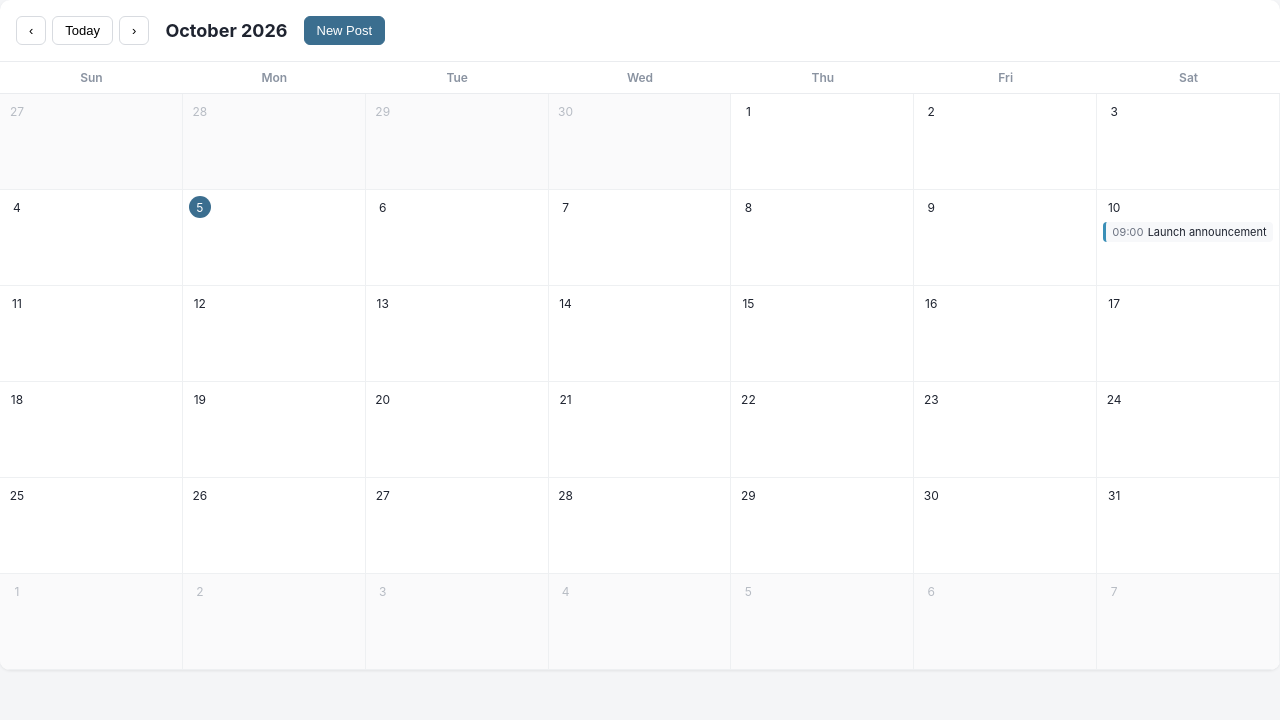
Test: Calendar › deleting a post removes it from the calendar
Click the element with test id "post-event-post-1" at {"x": 1188, "y": 232}, box x1=1103 y1=222 x2=1273 y2=242
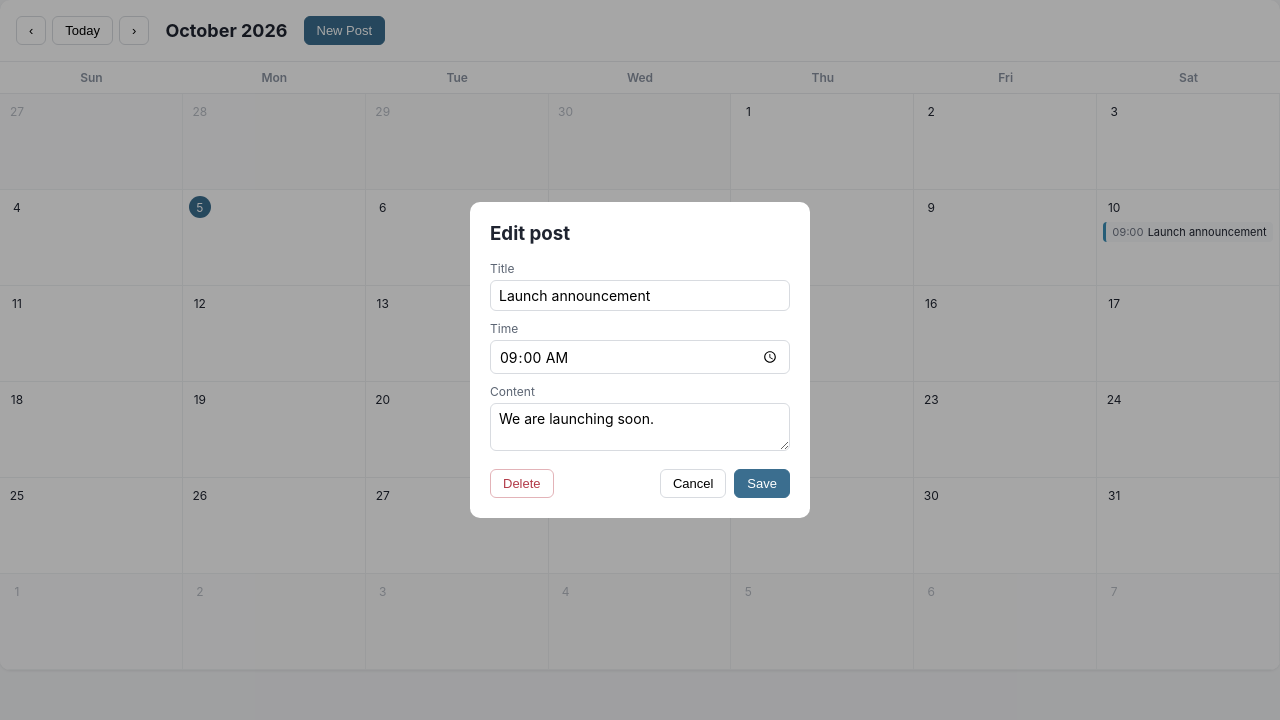
Click the button "Delete" at {"x": 522, "y": 484}, box x1=490 y1=469 x2=554 y2=498
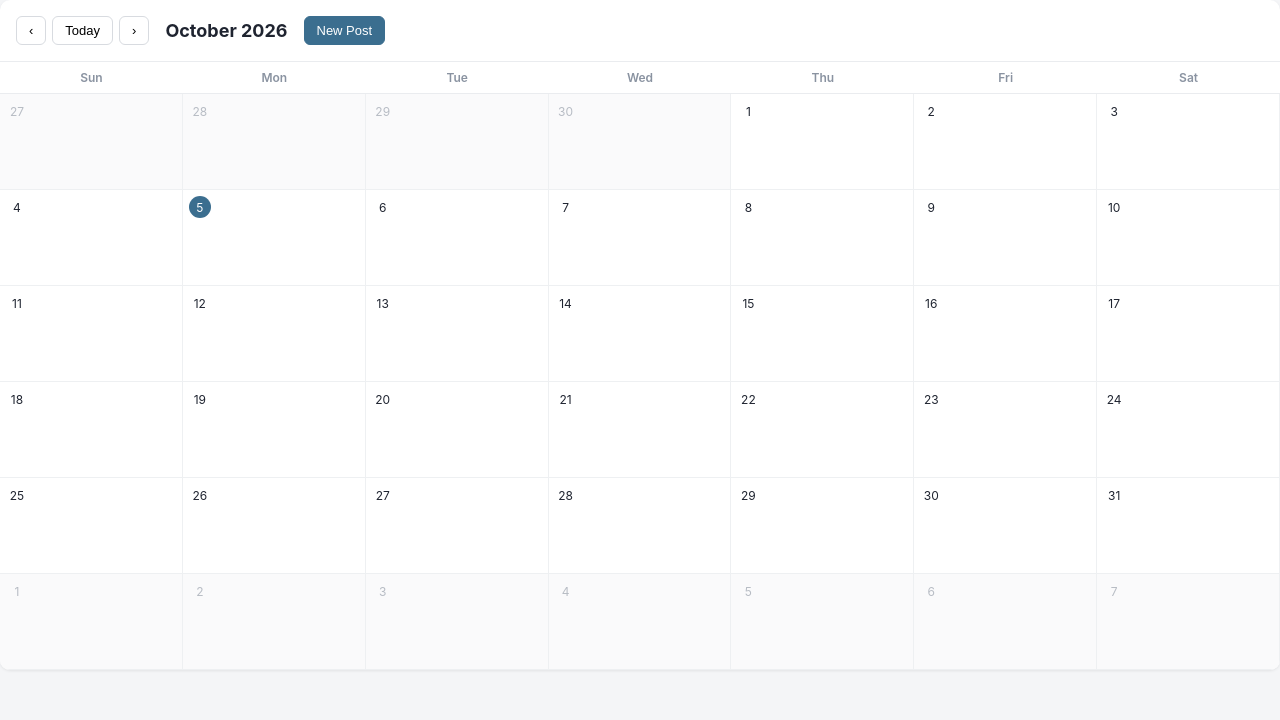
Now the text "Launch announcement" is gone
